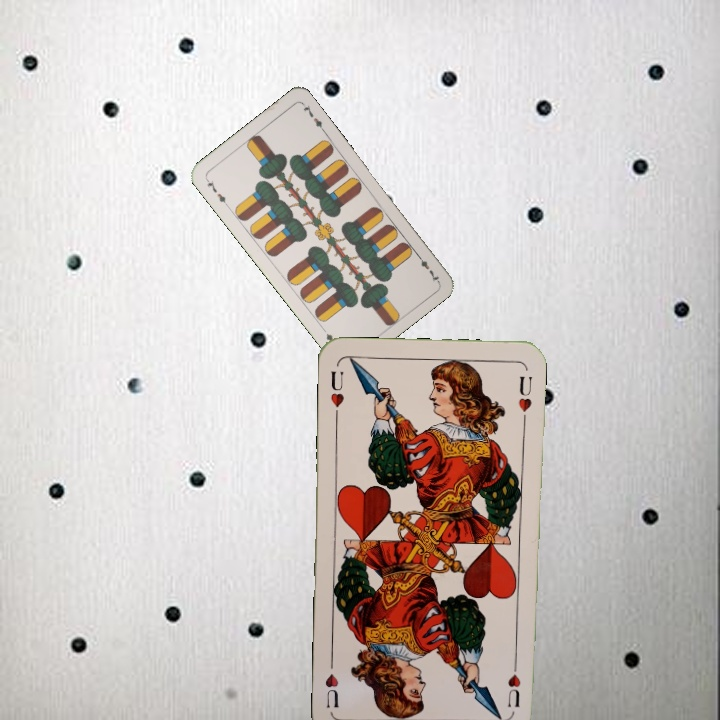E7: (412, 249, 441, 285), (202, 174, 231, 209)
HU: (326, 367, 346, 421), (504, 655, 523, 710)
